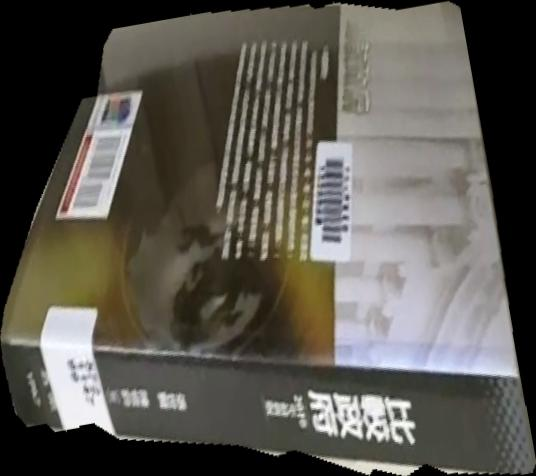flat: (1, 1, 536, 476)
